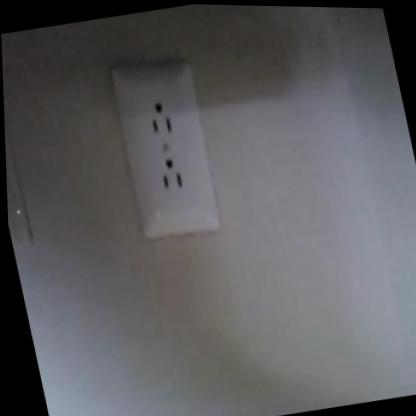OUTLET: (108, 53, 225, 243)
